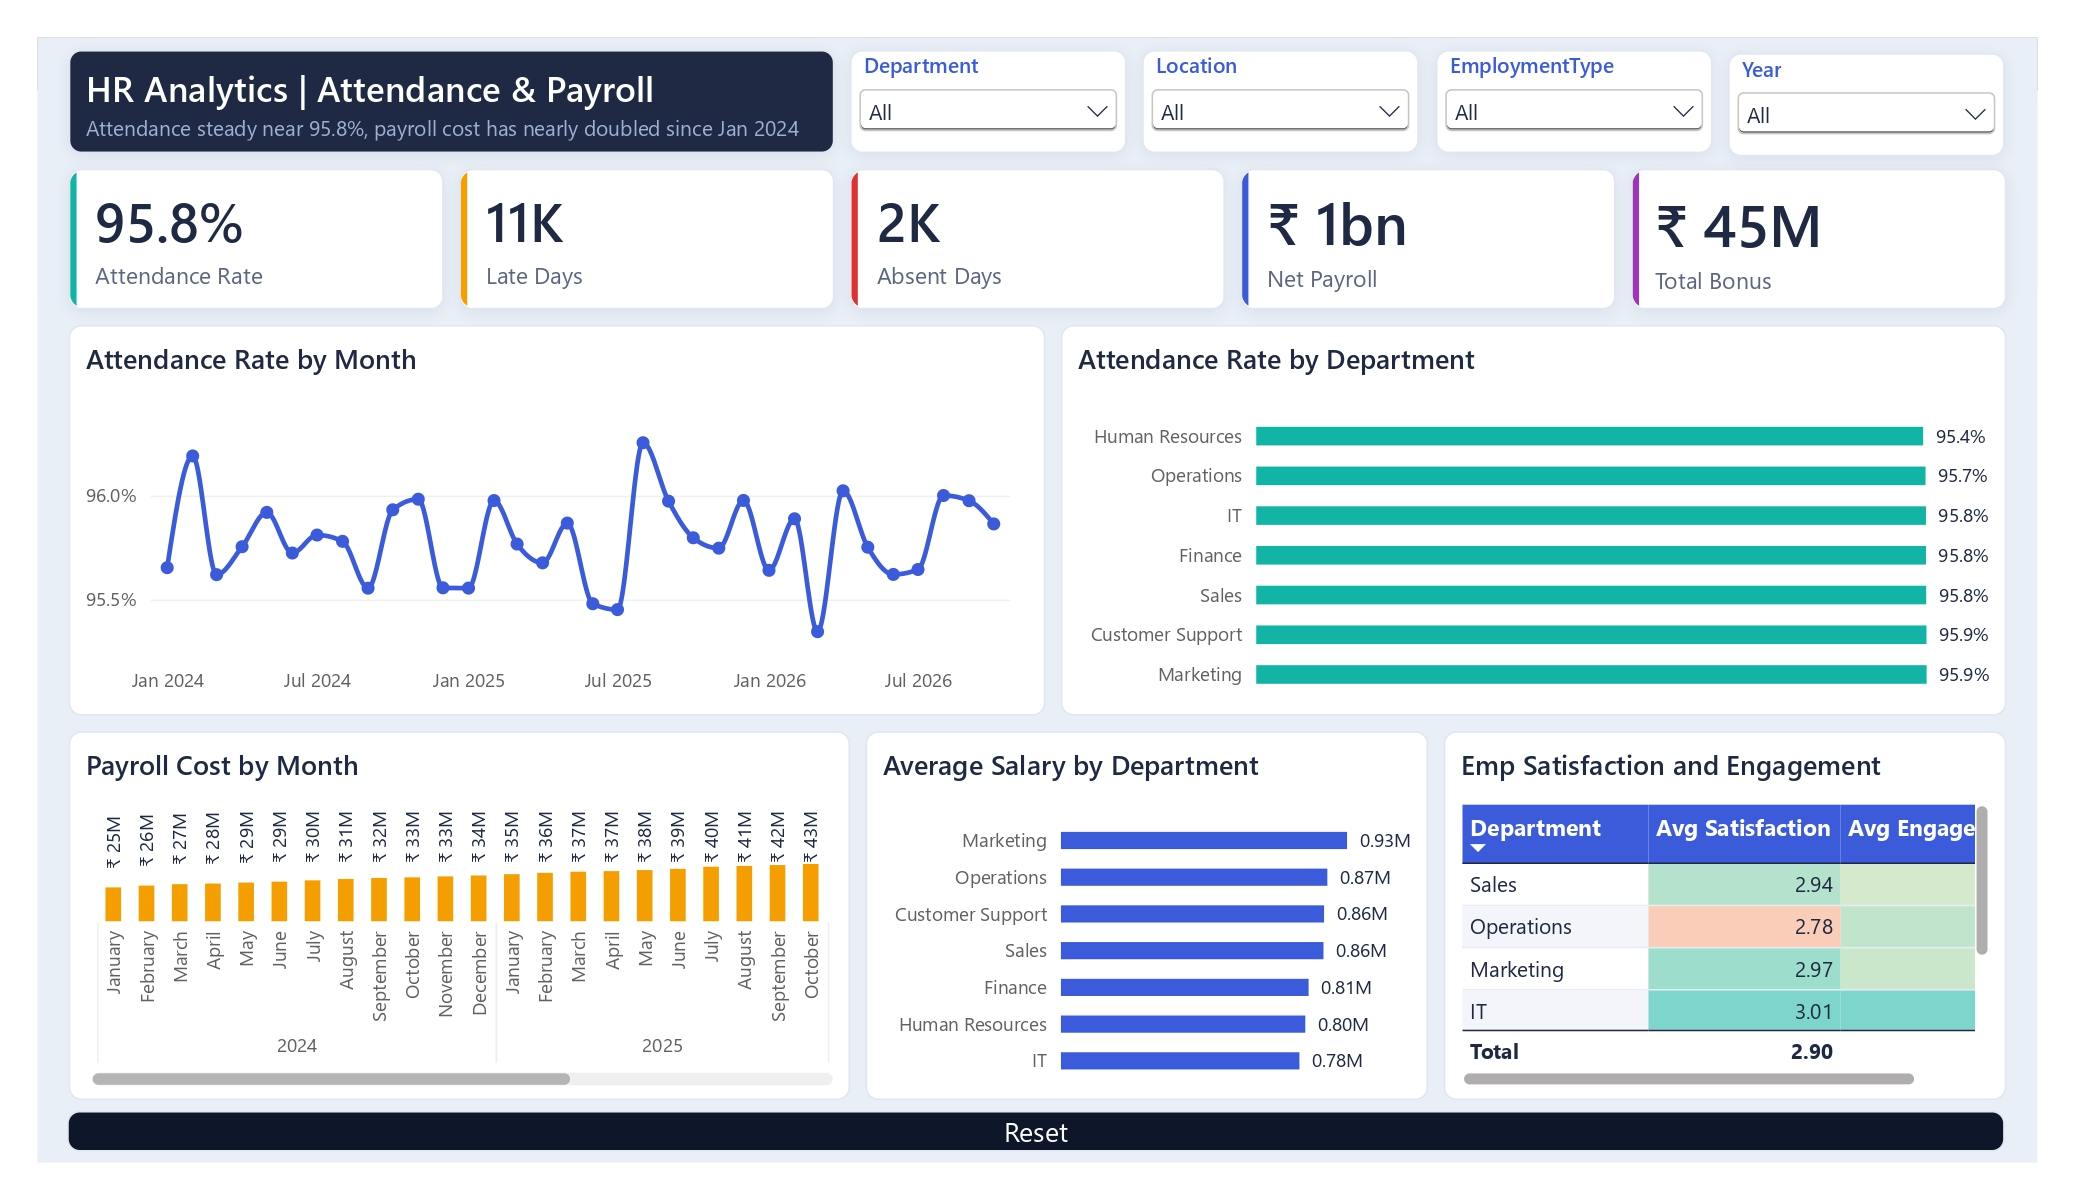

Layout of this report page (visuals, bound fields, positions):
{"tool":"powerbi","page":{"name":"Attendance & Payroll","canvas":[1280,720],"ordinal":1},"visuals":[{"type":"textbox","title":"HR Analytics | Attendance & Payroll","box":[20,8,490,66],"z":0},{"type":"slicer","fields":{"Values":["Employees.Department"]},"box":[520,8,177,66],"z":1000},{"type":"slicer","fields":{"Values":["Employees.Location"]},"box":[707,8,177,66],"z":2000},{"type":"slicer","fields":{"Values":["Employees.EmploymentType"]},"box":[895,8,177,66],"z":3000},{"type":"actionButton","box":[19,687,1239.5,25.6],"z":4000},{"type":"cardVisual","fields":{"Data":["Attendance.Attendance Rate"]},"box":[20,84,240,90],"z":5000},{"type":"cardVisual","fields":{"Data":["Attendance.Late Days"]},"box":[270,84,240,90],"z":6000},{"type":"cardVisual","fields":{"Data":["Attendance.Absent Days"]},"box":[520,84,240,90],"z":7000},{"type":"cardVisual","fields":{"Data":["Payroll.Net Payroll"]},"box":[770,84,240,90],"z":8000},{"type":"cardVisual","fields":{"Data":["Payroll.Total Bonus"]},"box":[1020,84,240,90],"z":9000},{"type":"lineChart","title":"Attendance Rate by Month","fields":{"Category":["Attendance.MonthYear.Variation.Date Hierarchy.Year","Attendance.MonthYear.Variation.Date Hierarchy.Quarter","Attendance.MonthYear.Variation.Date Hierarchy.Month","Attendance.MonthYear.Variation.Date Hierarchy.Day"],"Y":["Attendance.Attendance Rate"]},"box":[20,184,625,250],"z":10000},{"type":"clusteredBarChart","fields":{"Category":["Employees.Department"],"Y":["Attendance.Attendance Rate"]},"box":[655,184,605,250],"z":11000},{"type":"clusteredColumnChart","title":"Payroll Cost by Month","fields":{"Category":["Payroll.MonthYear.Variation.Date Hierarchy.Year","Payroll.MonthYear.Variation.Date Hierarchy.Month"],"Y":["Employees.Total Payroll Cost"]},"box":[20,444,500,236],"z":12000},{"type":"clusteredBarChart","title":"Average Salary by Department","fields":{"Category":["Employees.Department"],"Y":["Employees.Average Annual Salary"]},"box":[530,444,360,236],"z":12001},{"type":"tableEx","title":"Emp Satisfaction and Engagement","fields":{"Values":["Employees.Department","Employees.Avg Satisfaction","Employees.Avg Engagement"]},"box":[900,444.2,360,236],"z":12002},{"type":"slicer","fields":{"Values":["Year Table.Value"]},"box":[1082,10,177,66],"z":12003}]}

Visuals, with their boxes on the page's 1280x720 design canvas (x1, y1, x2, y2). These are canvas units, not pixel positions in the 2075x1200 screenshot, which may show the page scaled, cropped or inside an application window:
"HR Analytics | Attendance & Payroll" textbox: 20 8 510 74
slicer - Employees.Department: 520 8 697 74
slicer - Employees.Location: 707 8 884 74
slicer - Employees.EmploymentType: 895 8 1072 74
actionButton: 19 687 1258 713
cardVisual - Attendance.Attendance Rate: 20 84 260 174
cardVisual - Attendance.Late Days: 270 84 510 174
cardVisual - Attendance.Absent Days: 520 84 760 174
cardVisual - Payroll.Net Payroll: 770 84 1010 174
cardVisual - Payroll.Total Bonus: 1020 84 1260 174
"Attendance Rate by Month" lineChart: 20 184 645 434
clusteredBarChart - Employees.Department x Attendance.Attendance Rate: 655 184 1260 434
"Payroll Cost by Month" clusteredColumnChart: 20 444 520 680
"Average Salary by Department" clusteredBarChart: 530 444 890 680
"Emp Satisfaction and Engagement" tableEx: 900 444 1260 680
slicer - Year Table.Value: 1082 10 1259 76
